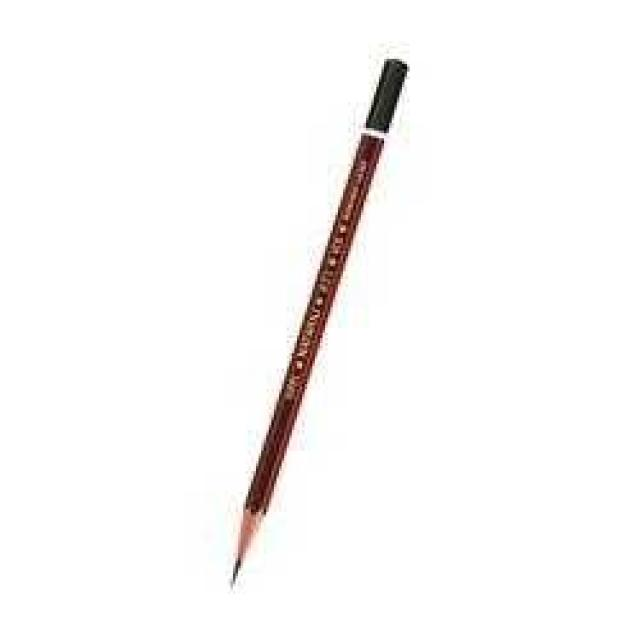pencil: (208, 43, 444, 624)
